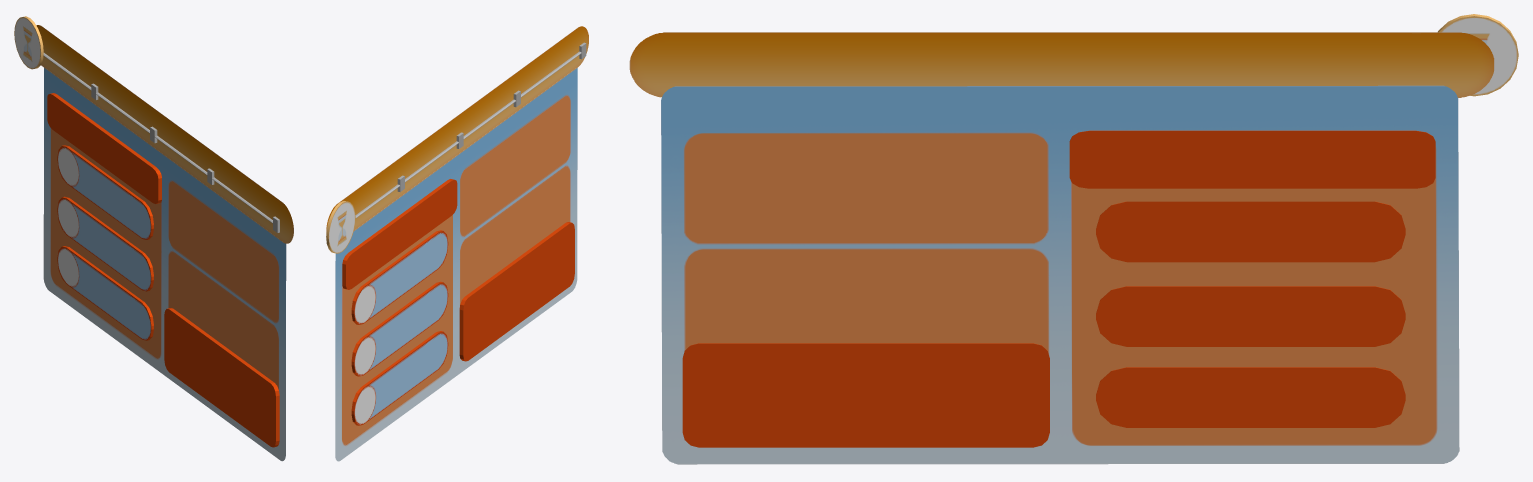
The model's file is new_menu.fbx.
The picture shows the model from 3 angles, left to right: view 1: azimuth 30°, elevation 25°; view 2: azimuth 150°, elevation 25°; view 3: azimuth 270°, elevation 25°; orthographic projection. The views are drawn at different scales.
Parts seen in each view (by area): view 1: naked_menu, time_slider, red_button_2, red_button_1, Blue_button_1, Blue_button_2, Blue_button_3, pCylinder1, time_bar; view 2: naked_menu, time_slider, red_button_2, red_button_1, Blue_button_2, Blue_button_3, Blue_button_1, pCylinder1, time_bar; view 3: naked_menu, time_slider, red_button_2, red_button_1, Blue_button_1, Blue_button_3, Blue_button_2, pCylinder1.
Boxes of the visible parts, x1,y1,x2,y2 form: naked_menu: (43,68,286,461); time_slider: (36,25,293,243); red_button_2: (164,308,279,447); red_button_1: (47,93,161,203); Blue_button_1: (57,145,153,239); Blue_button_2: (57,196,153,291); Blue_button_3: (57,246,153,340); pCylinder1: (14,16,43,69); time_bar: (43,53,274,224); naked_menu: (335,68,577,461); time_slider: (326,26,588,231); red_button_2: (459,222,574,361); red_button_1: (342,179,457,289); Blue_button_2: (351,281,448,376); Blue_button_3: (351,331,448,425); Blue_button_1: (351,230,448,324); pCylinder1: (326,201,355,253); time_bar: (355,50,584,218); naked_menu: (661,85,1459,464); time_slider: (629,32,1494,97); red_button_2: (682,343,1049,447); red_button_1: (1069,130,1435,188); Blue_button_1: (1096,201,1405,262); Blue_button_3: (1096,367,1405,427); Blue_button_2: (1096,286,1405,346); pCylinder1: (1438,14,1518,96).
Bounding box in the file's own units: 0.5066 × 11.07 × 20.26.
